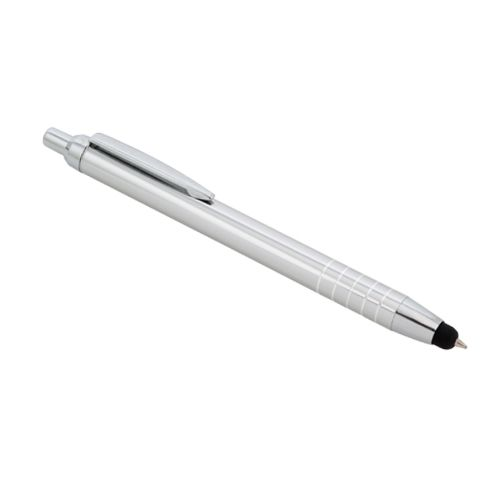Boligrafo: (38, 121, 473, 358)
